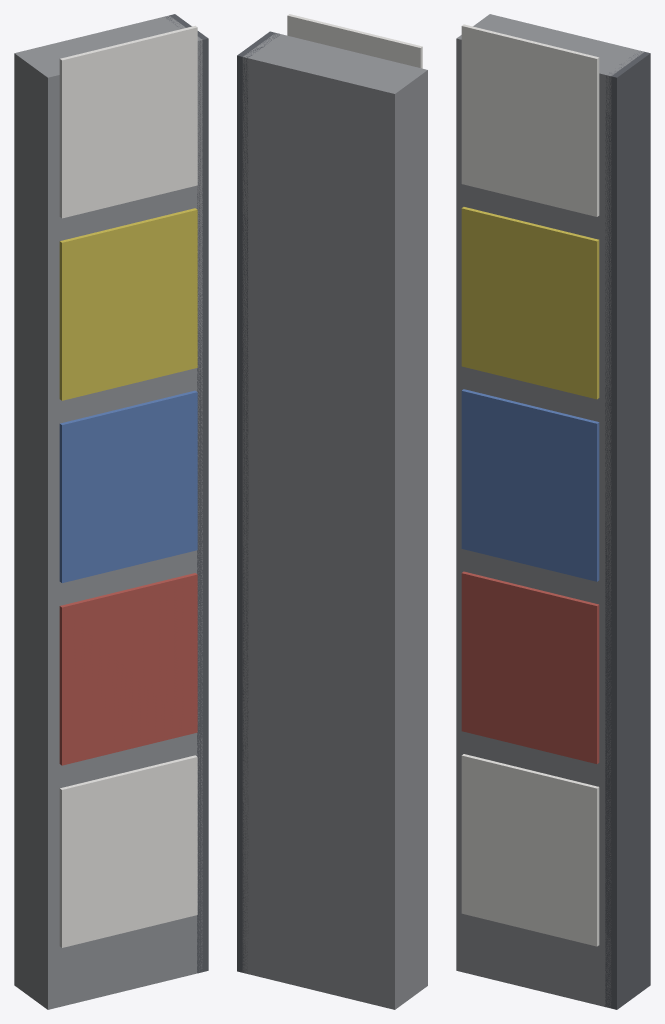
Rendered from prop_kanban_tower_a.glb.
The picture shows the model from 3 angles, left to right: view 1: azimuth 30°, elevation 25°; view 2: azimuth 150°, elevation 25°; view 3: azimuth 330°, elevation 25°; orthographic projection.
Visible parts, largest first — view 1: kanban_tower_a; view 2: kanban_tower_a; view 3: kanban_tower_a.
Part boxes in pixels (x1,y1,x2,y2): kanban_tower_a: (14,14,208,1009); kanban_tower_a: (237,14,427,1009); kanban_tower_a: (456,14,650,1009).
Bounding box in the file's own units: 0.83 × 4.69 × 0.34.
